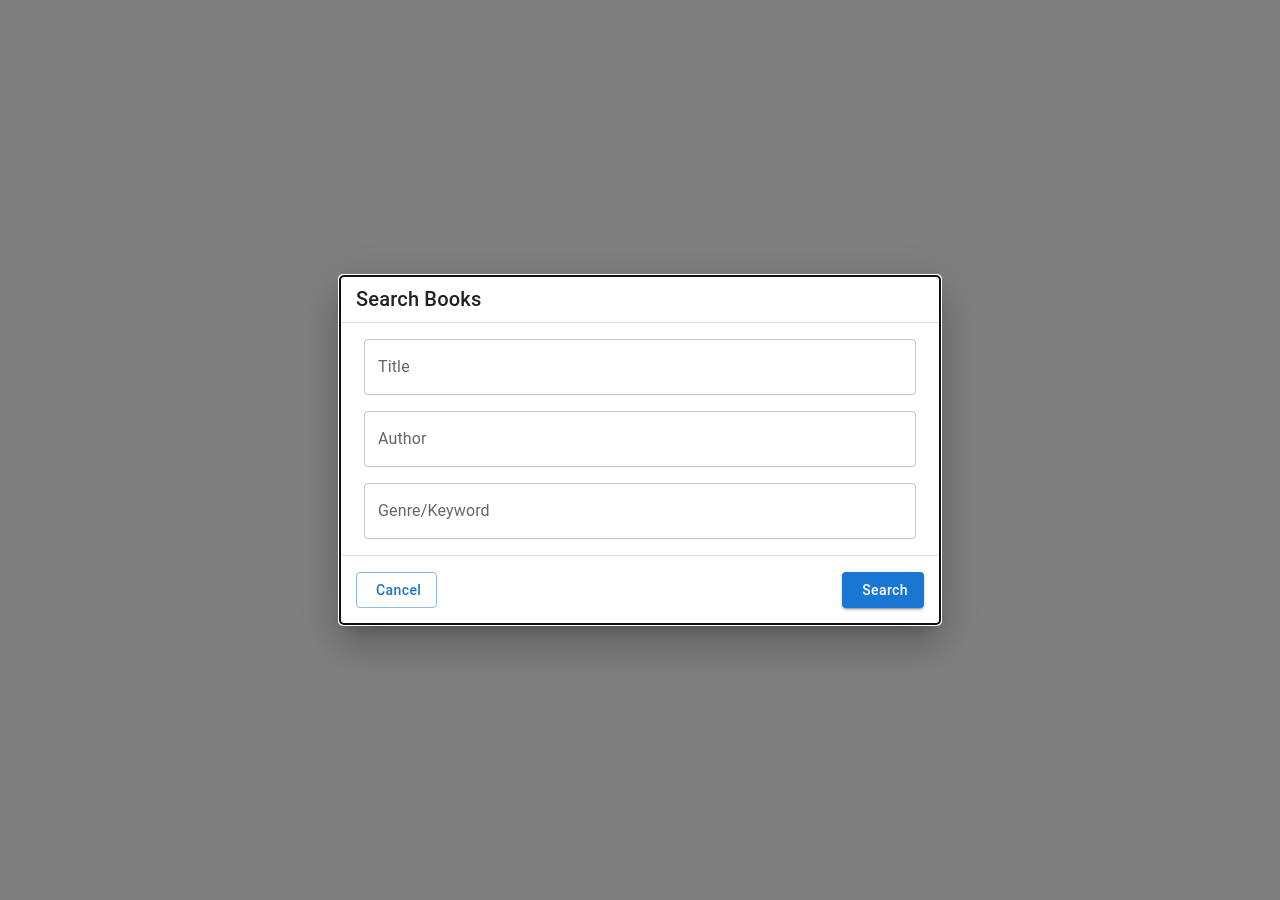
Test case: SearchForm › shows validation error if all fields empty and search clicked
Click the button "Search" at (883, 590), box top-left (842, 572), bottom-right (924, 608)
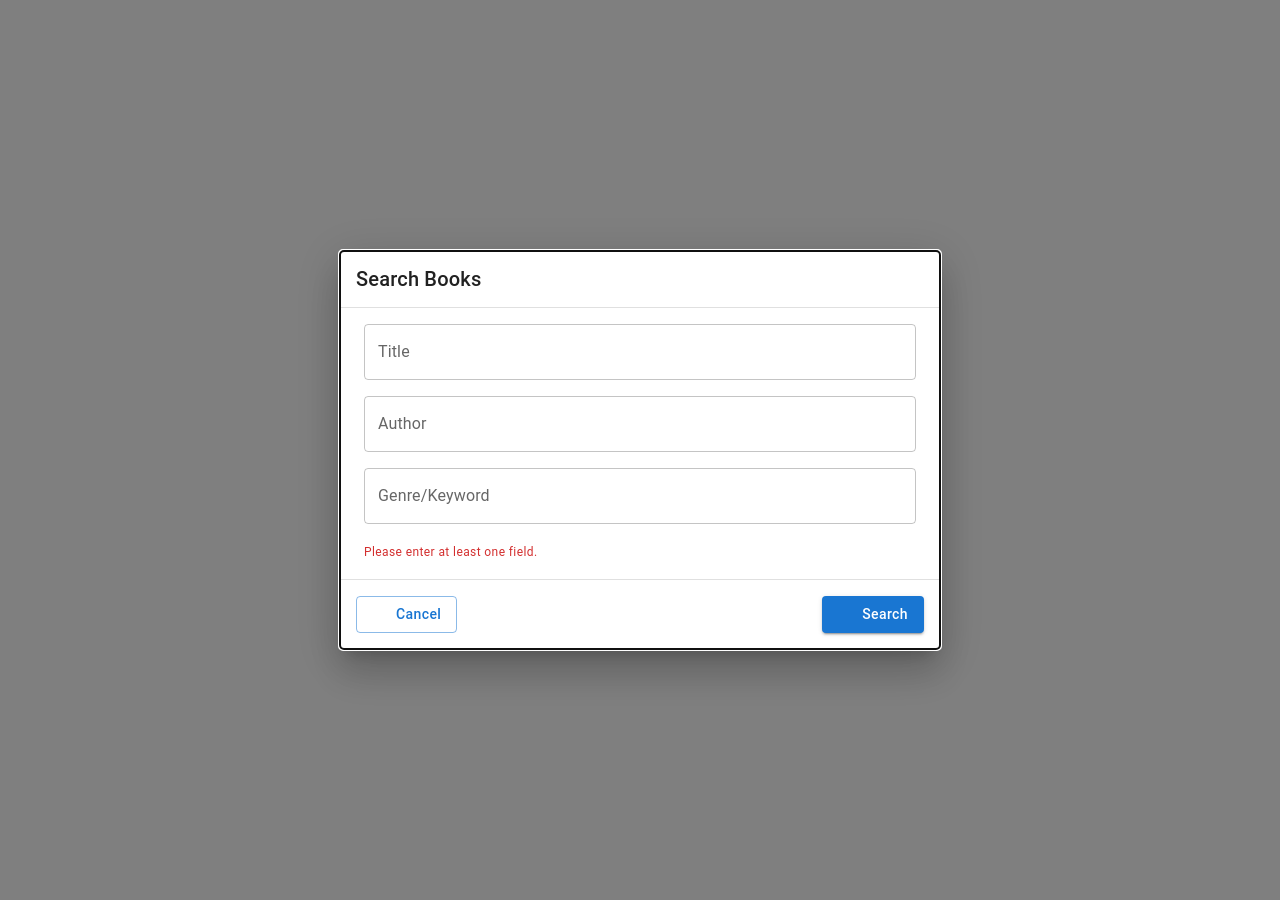
Expected: the text "Please enter at least one field." is shown, top-left (364, 545), bottom-right (538, 559)
